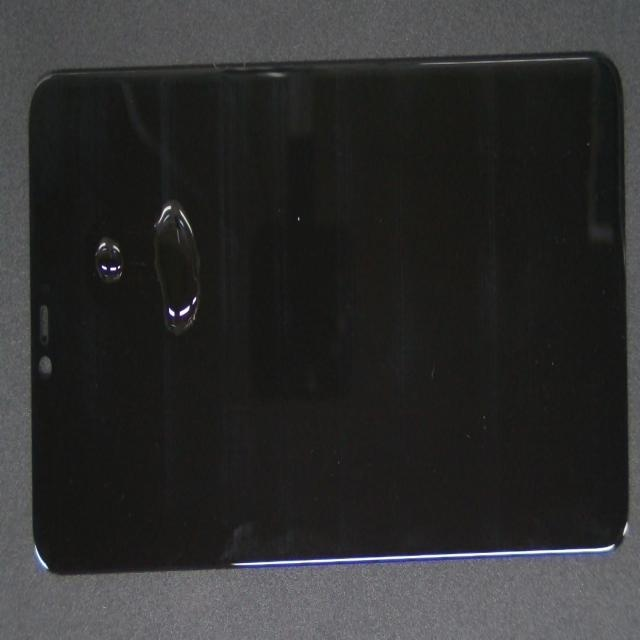oil: (88, 56, 243, 315), (53, 90, 142, 384)
